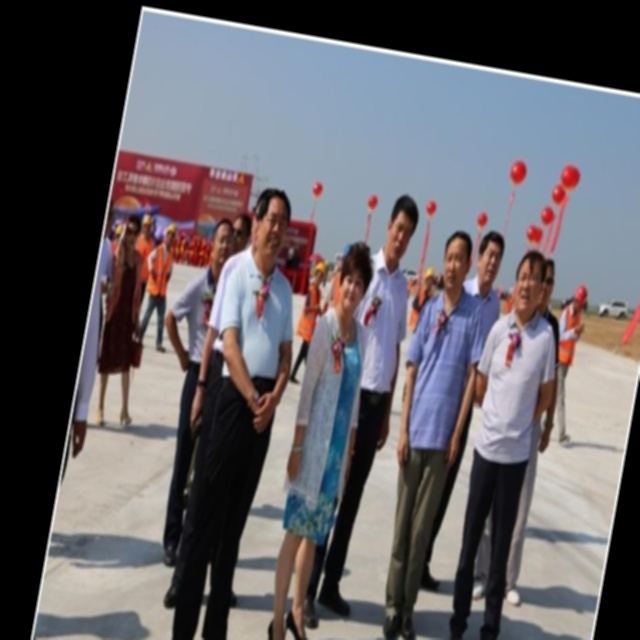Sin_Casco_Mascarrilla: (335, 238, 379, 316), (380, 192, 423, 267)
